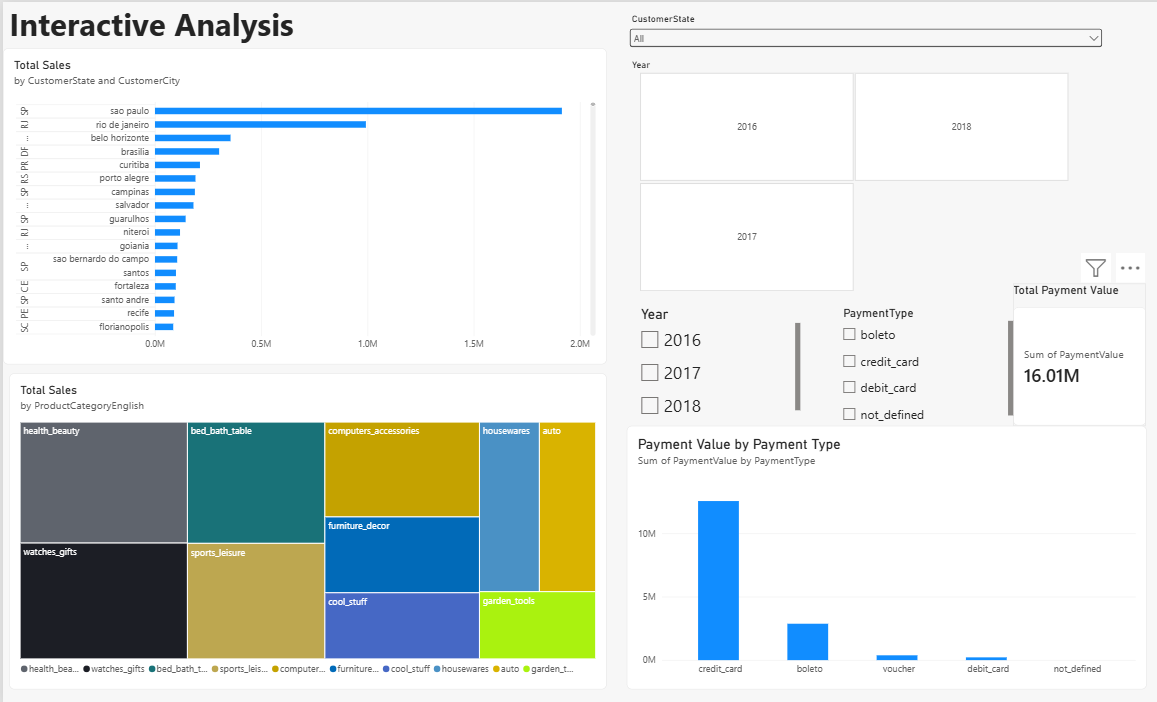

The page's visual inventory and layout, read from the dashboard file:
{"tool":"powerbi","page":{"name":" Interactive Analysis","canvas":[1920,1080],"ordinal":2},"visuals":[{"type":"textbox","box":[9.6,0,811.5,88.5],"z":0},{"type":"clusteredBarChart","fields":{"Category":["mart vw_SalesPerformance.CustomerState","mart vw_SalesPerformance.CustomerCity"],"Y":["mart vw_SalesPerformance.Total Sales"]},"box":[0,71.2,928.8,486.5],"z":1},{"type":"treemap","fields":{"Group":["mart vw_SalesPerformance.ProductCategoryEnglish"],"Values":["mart vw_SalesPerformance.Total Sales"]},"box":[9.6,571.2,919.2,486.5],"z":2},{"type":"slicer","fields":{"Values":["mart vw_SalesPerformance.FullDate.Variation.Date Hierarchy.Year"]},"box":[1063.5,119.2,648.1,390.4],"z":3},{"type":"slicer","fields":{"Values":["mart vw_SalesPerformance.CustomerState"]},"box":[1063.5,623.1,648.1,140.4],"z":4}]}

Visuals, with their boxes on the page's 1920x1080 design canvas (x1, y1, x2, y2). These are canvas units, not pixel positions in the 1157x702 screenshot, which may show the page scaled, cropped or inside an application window:
textbox: detection(10, 0, 821, 88)
clusteredBarChart - mart vw_SalesPerformance.CustomerState x mart vw_SalesPerformance.CustomerCity: detection(0, 71, 929, 558)
treemap - mart vw_SalesPerformance.ProductCategoryEnglish x mart vw_SalesPerformance.Total Sales: detection(10, 571, 929, 1058)
slicer - mart vw_SalesPerformance.FullDate.Variation.Date Hierarchy.Year: detection(1064, 119, 1712, 510)
slicer - mart vw_SalesPerformance.CustomerState: detection(1064, 623, 1712, 764)
